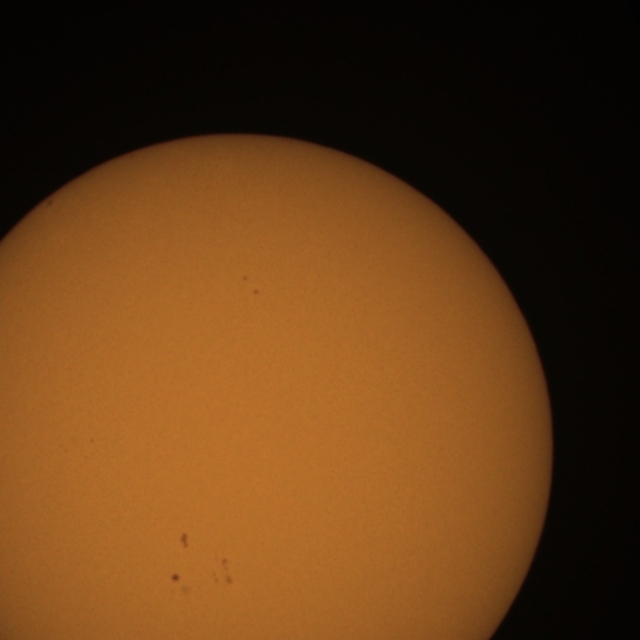sunspot: (211, 556, 234, 588), (241, 274, 260, 296), (179, 531, 190, 550), (170, 572, 182, 586), (241, 274, 249, 283), (252, 288, 260, 296)
